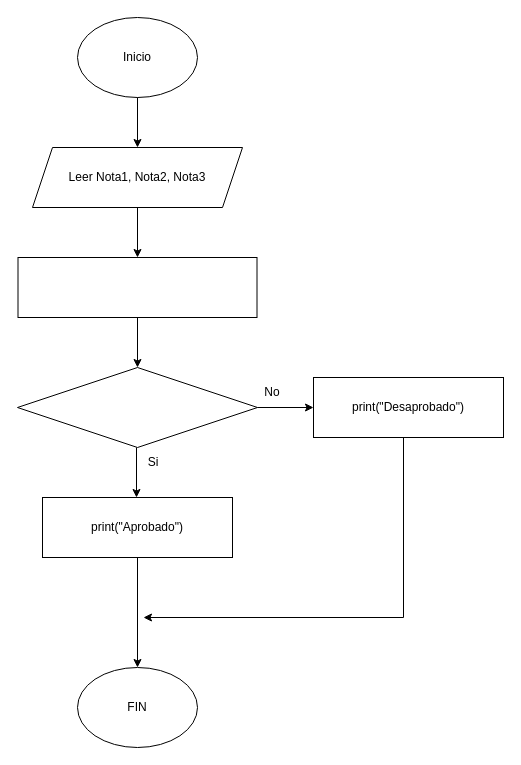
This 521x765 diagram has some shape labels left out. The shapes that lost their labels are listed below. From the top down, each one's centre as x and y in pixels, then its label:
(137,287): promedio=(Nota1+Nota2+Nota3)/3
(137,407): Promedio ⋝ 6
